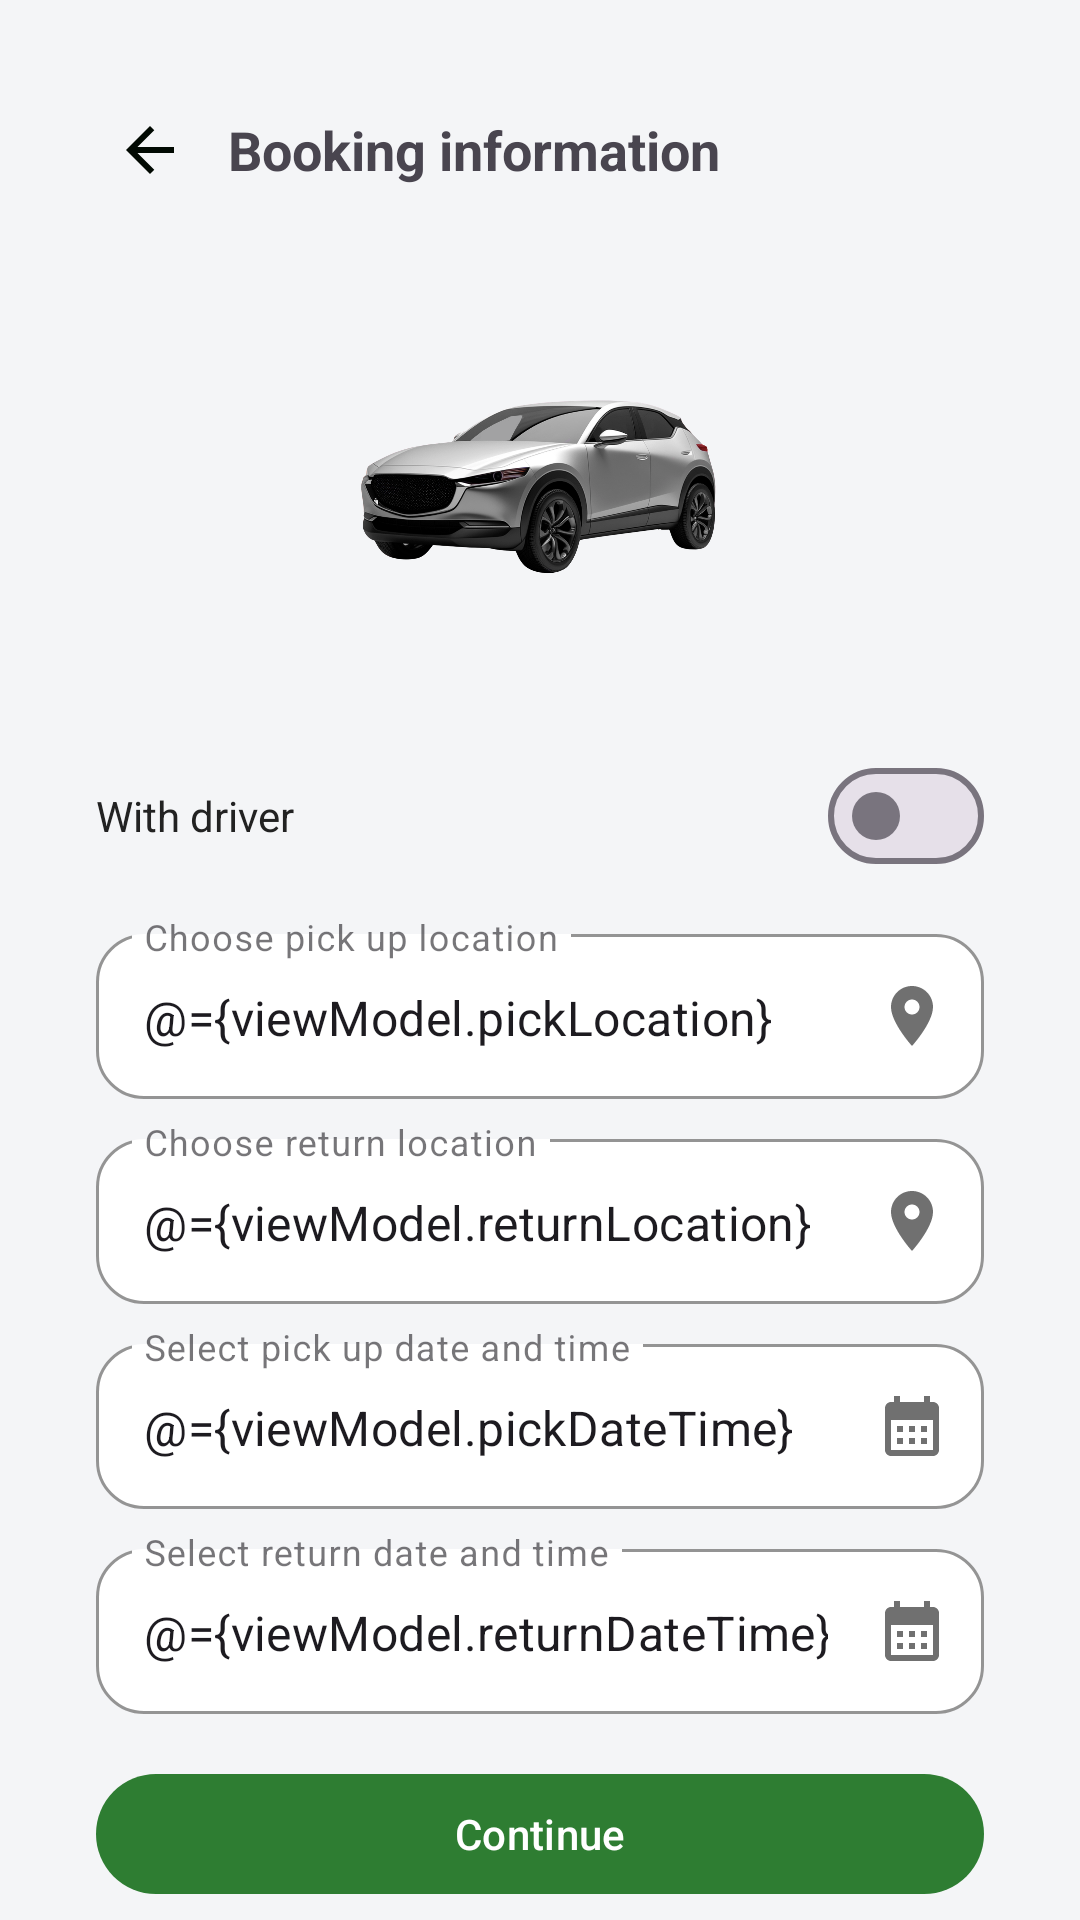

Icon click points for this 1080px x 1920px phone screenshot, format point (x, y):
Back: point (150, 150)
suv: point (538, 486)
